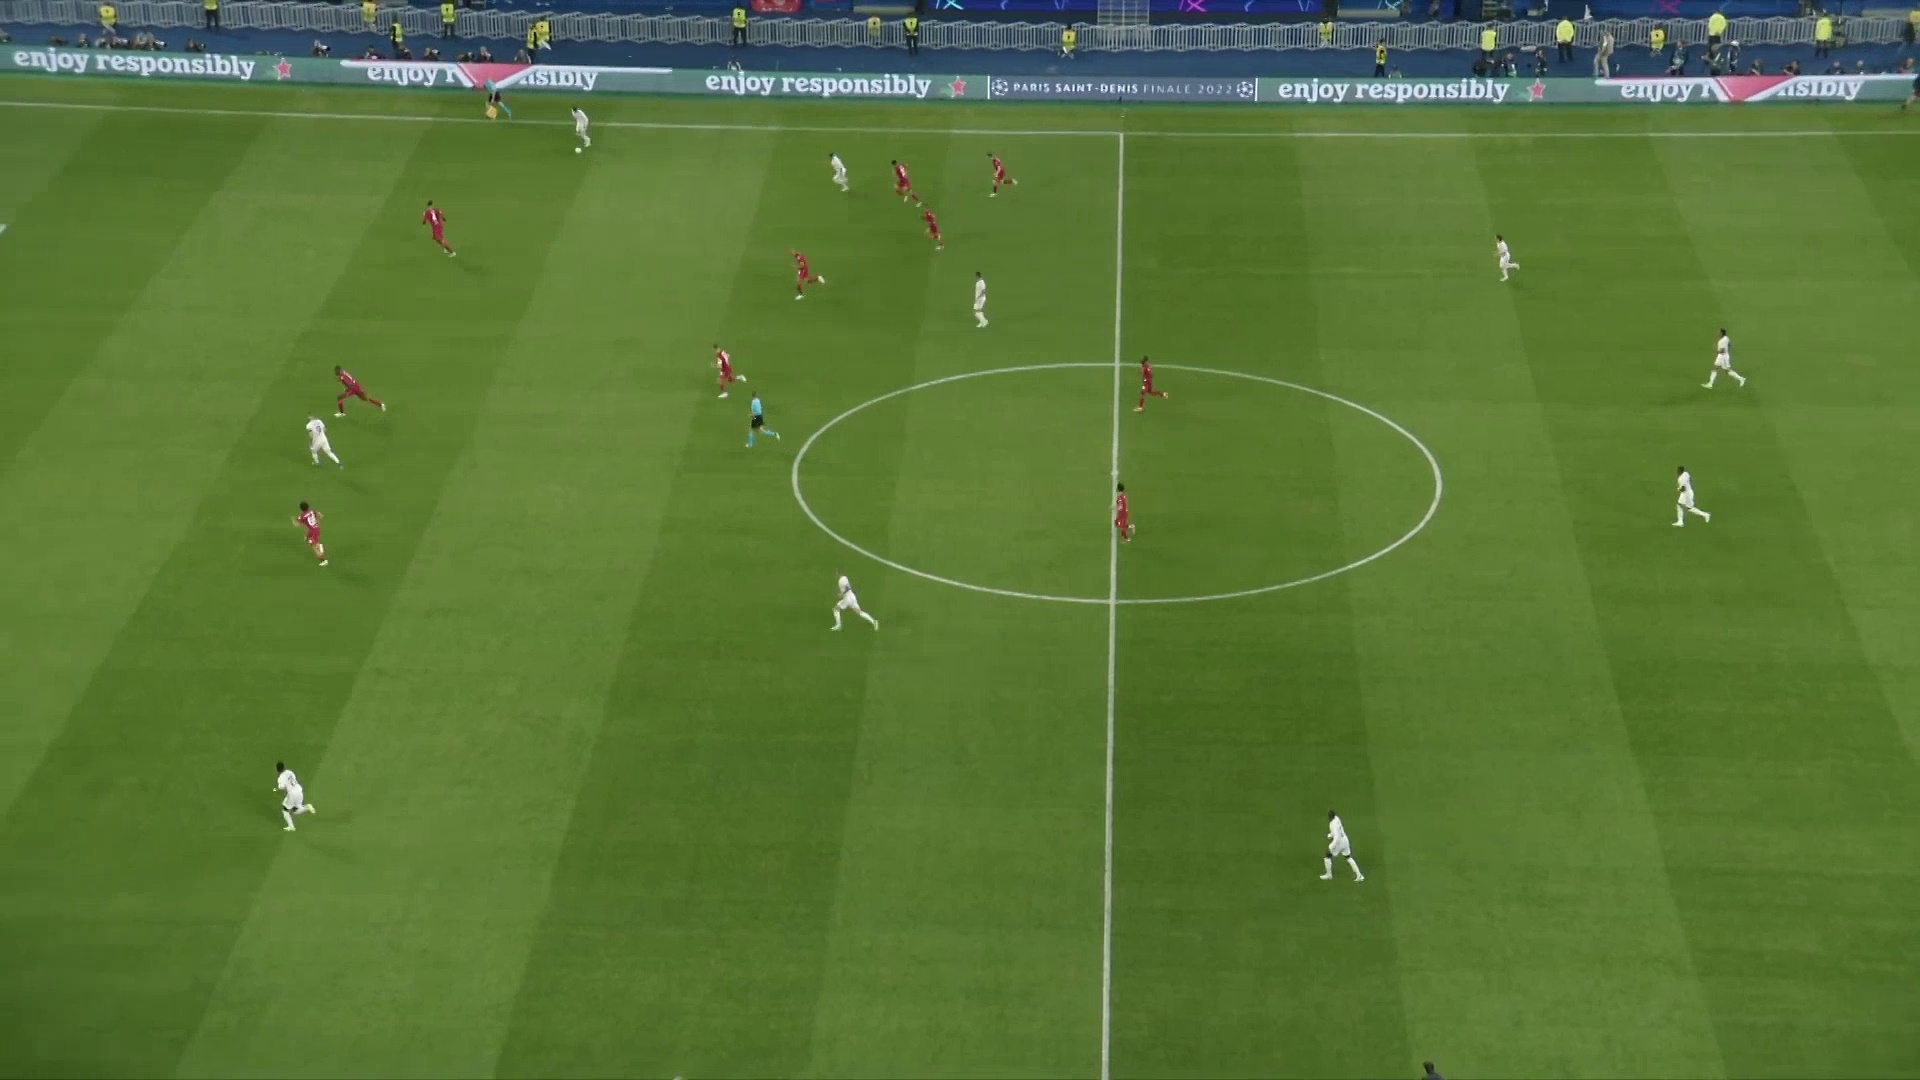ball: (571, 146, 588, 157)
player 1: (567, 99, 595, 144)
player 10: (1659, 444, 1718, 539)
player 11: (1314, 793, 1368, 894)
player 13: (407, 194, 472, 267)
player 14: (285, 500, 347, 582)
player 15: (772, 237, 845, 310)
player 16: (308, 349, 407, 410)
player 17: (696, 332, 758, 407)
player 18: (884, 157, 925, 207)
player 19: (911, 207, 950, 257)
player 2: (814, 147, 860, 200)
player 20: (967, 144, 1026, 202)
player 21: (1127, 343, 1176, 418)
player 22: (1103, 483, 1144, 552)
player 3: (250, 752, 321, 836)
player 4: (285, 409, 343, 468)
player 5: (821, 560, 886, 649), (828, 563, 884, 646)
player 7: (957, 267, 1004, 338)
player 8: (1491, 224, 1528, 282)
player 9: (1696, 317, 1756, 396)
